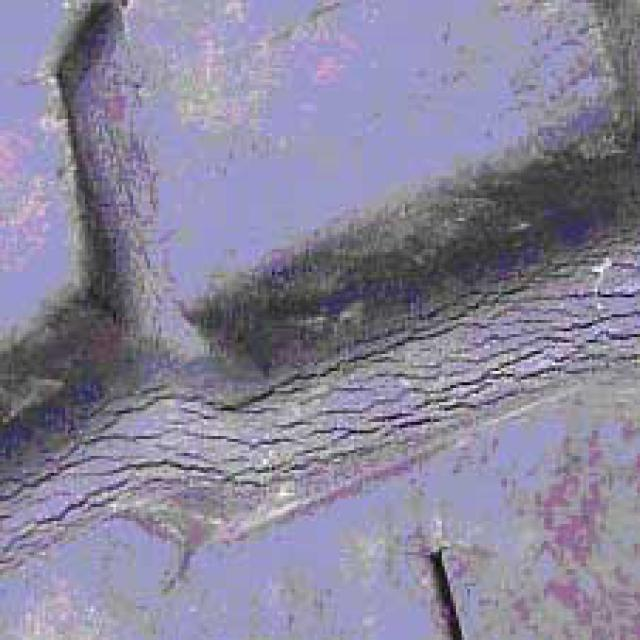Cracks: (0, 151, 637, 595)
